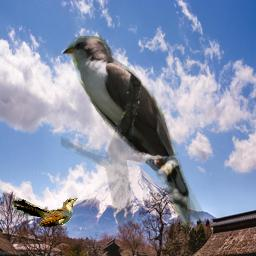Cuckoo: (61, 36, 206, 228), (12, 198, 78, 227)
